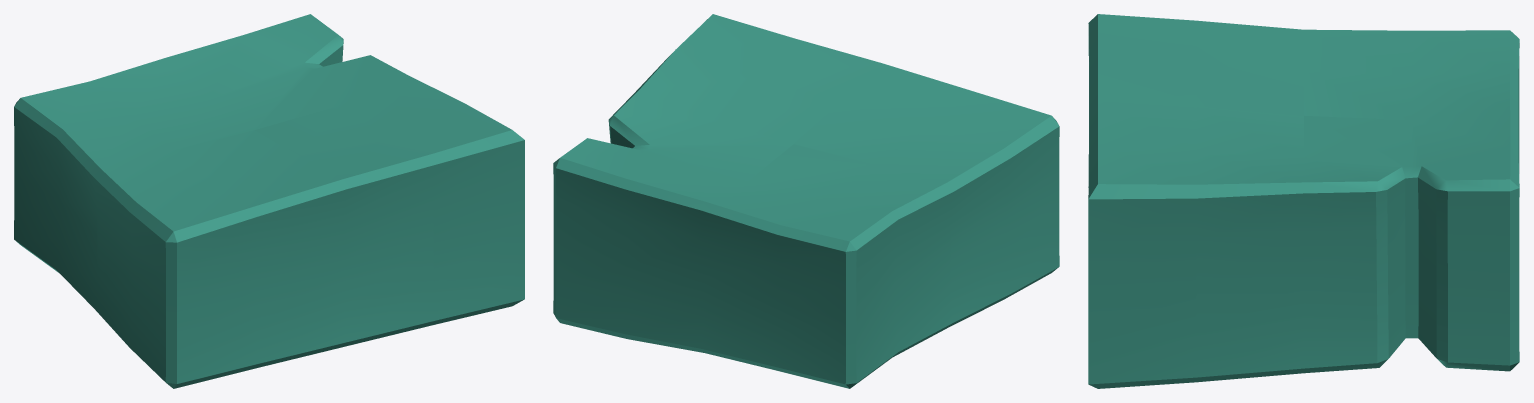
The model's file is Green4.fbx.
The picture shows the model from 3 angles, left to right: view 1: azimuth 30°, elevation 25°; view 2: azimuth 150°, elevation 25°; view 3: azimuth 270°, elevation 25°; orthographic projection. The views are drawn at different scales.
Parts seen in each view (by area): view 1: square; view 2: square; view 3: square.
Boxes of the visible parts, bbox=[...] form: square: bbox=[14, 14, 524, 388]; square: bbox=[553, 14, 1059, 388]; square: bbox=[1088, 14, 1519, 388].
Bounding box in the file's own units: 1.96 × 0.9287 × 1.77.
